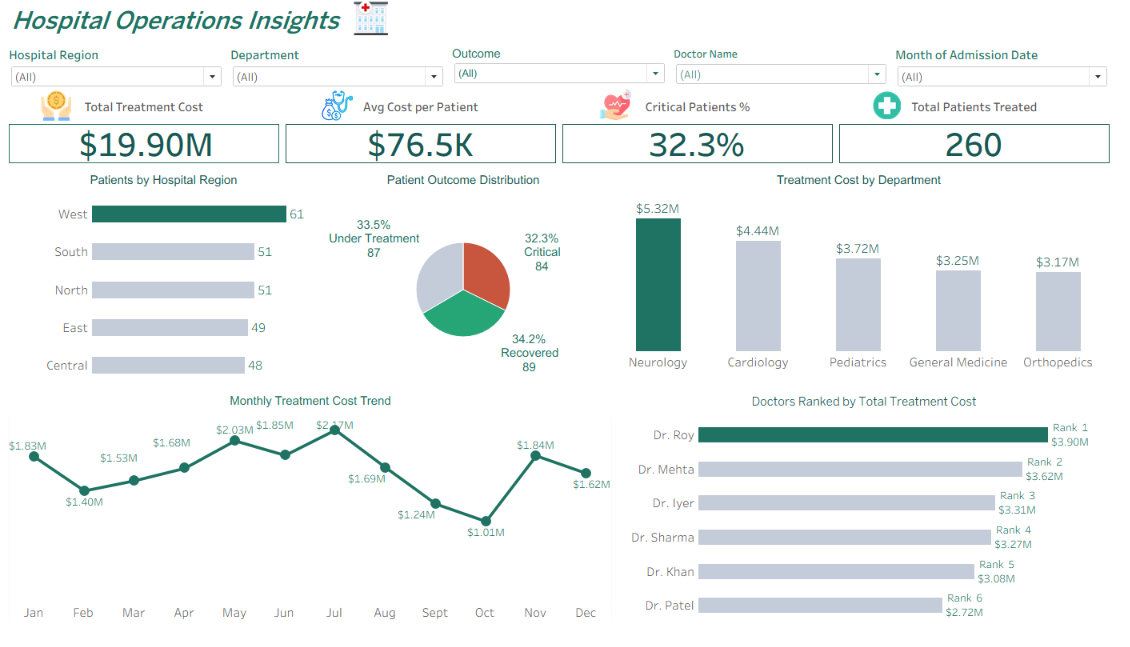

This screenshot's page, from the dashboard's own definition file:
{"tool":"tableau","page":{"name":"Interactive Dashboard","canvas":[1400,800],"ordinal":0},"visuals":[{"type":"title","box":[8,8,1384,56]},{"type":"image","param":"Image/hospital.png","box":[438,11,53,43]},{"type":"filter","title":"Patients by Region","param":"[federated.0vdn0890y8u5ui163v14u0w0vjbn].[none:Hospital_Region:nk]","box":[8,64,277,61]},{"type":"filter","title":"Treatment Cost by Department","param":"[federated.0vdn0890y8u5ui163v14u0w0vjbn].[none:Department:nk]","box":[285,64,277,61]},{"type":"filter","title":"Patient Outcomes","param":"[federated.0vdn0890y8u5ui163v14u0w0vjbn].[none:Outcome:nk]","box":[562,64,277,61]},{"type":"filter","title":"Doctors Ranked by Total Treatment Cost","param":"[federated.0vdn0890y8u5ui163v14u0w0vjbn].[none:Doctor_Name:nk]","box":[839,64,277,61]},{"type":"filter","title":"Treatment Cost Trend","param":"[federated.0vdn0890y8u5ui163v14u0w0vjbn].[mn:Admission_Date:ok]","box":[1116,64,276,61]},{"type":"image","param":"Image/healthcare.png","box":[740,121,61,39]},{"type":"image","param":"Image/financial-health.png","box":[397,122,52,39]},{"type":"image","param":"Image/savings.png","box":[47,123,48,38]},{"type":"image","param":"Image/medical-symbol.png","box":[1085,124,49,35]},{"type":"worksheet","title":"KPI - Total Treatment Cost","mark":"Automatic","box":[8,125,346,93]},{"type":"worksheet","title":"KPI - Avg Cost per Patient","mark":"Automatic","box":[354,125,346,93]},{"type":"worksheet","title":"KPI - Critical Patients %","mark":"Automatic","box":[700,125,346,93]},{"type":"worksheet","title":"KPI – Patients Treated","mark":"Automatic","box":[1046,125,346,93]},{"type":"worksheet","title":"Patients by Region","mark":"Automatic","rows":["Hospital_Region"],"cols":["Patient_ID"],"box":[8,218,395,276]},{"type":"worksheet","title":"Patient Outcomes","mark":"Pie","box":[403,218,354,276]},{"type":"worksheet","title":"Treatment Cost by Department","mark":"Automatic","rows":["Treatment_Cost"],"cols":["Department"],"box":[757,218,635,276]},{"type":"worksheet","title":"Treatment Cost Trend","mark":"Line","rows":["Treatment_Cost","Treatment_Cost"],"cols":["Admission_Date"],"box":[8,494,762,298]},{"type":"worksheet","title":"Doctors Ranked by Total Treatment Cost","mark":"Automatic","rows":["Doctor_Name"],"cols":["Treatment_Cost"],"box":[770,494,622,298]}]}

Visuals, with their boxes in screenshot pixels (x1, y1, x2, y2), scaled from the page's 1400x800 canvas onto the 1130x647 screenshot:
title: 6,6,1124,52
image: 354,9,396,44
"Patients by Region" filter: 6,52,230,101
"Treatment Cost by Department" filter: 230,52,454,101
"Patient Outcomes" filter: 454,52,677,101
"Doctors Ranked by Total Treatment Cost" filter: 677,52,901,101
"Treatment Cost Trend" filter: 901,52,1124,101
image: 597,98,647,129
image: 320,99,362,130
image: 38,99,77,130
image: 876,100,915,129
"KPI - Total Treatment Cost" worksheet: 6,101,286,176
"KPI - Avg Cost per Patient" worksheet: 286,101,565,176
"KPI - Critical Patients %" worksheet: 565,101,844,176
"KPI – Patients Treated" worksheet: 844,101,1124,176
"Patients by Region" worksheet: 6,176,325,400
"Patient Outcomes" worksheet (Pie marks): 325,176,611,400
"Treatment Cost by Department" worksheet: 611,176,1124,400
"Treatment Cost Trend" worksheet (Line marks): 6,400,622,641
"Doctors Ranked by Total Treatment Cost" worksheet: 622,400,1124,641
